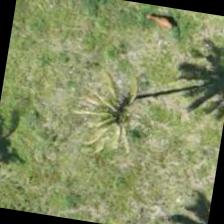Kelapa_Sawit: (69, 63, 172, 166)
